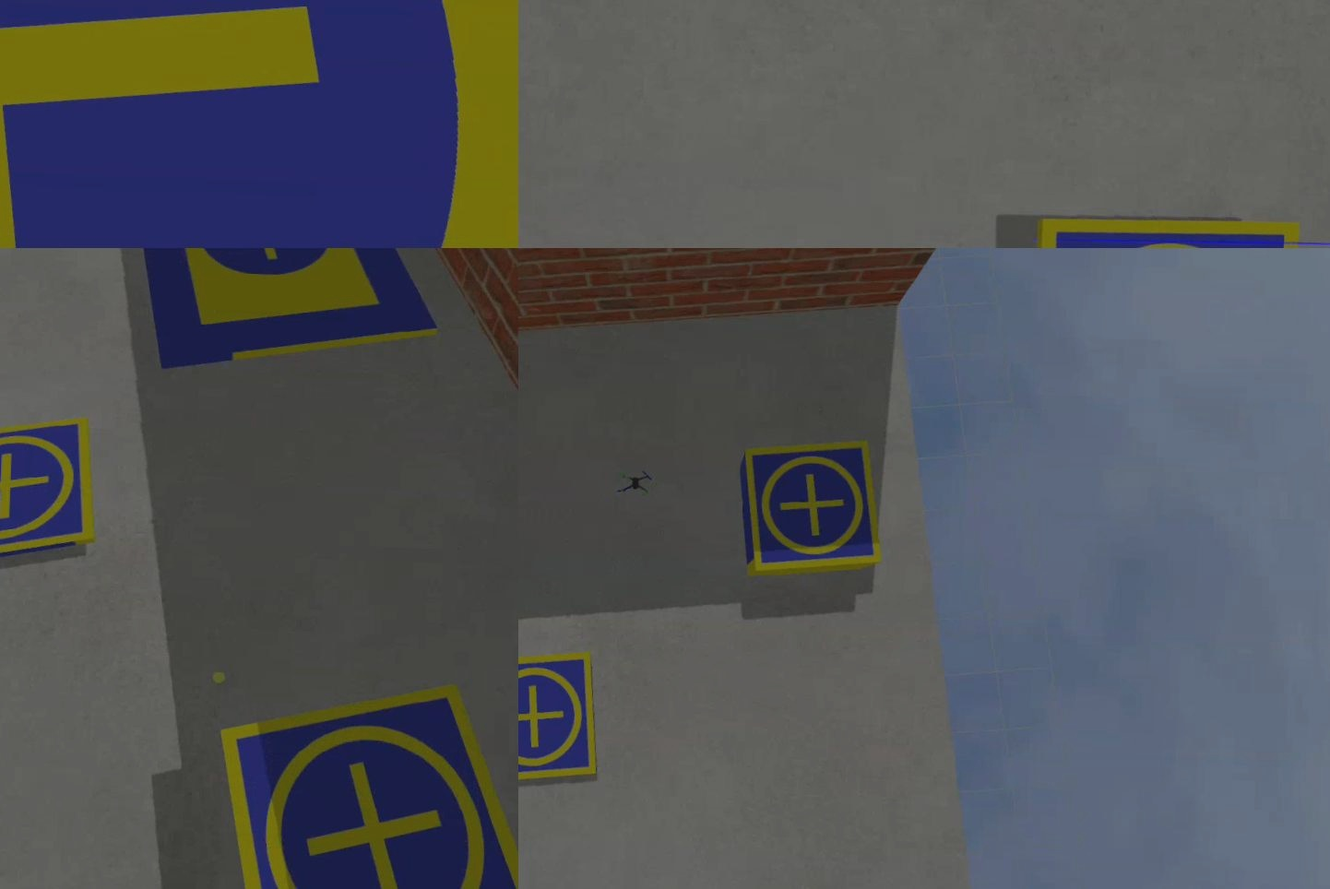large_base: (126, 249, 445, 373)
small_base: (1, 1, 518, 249), (215, 677, 518, 889), (739, 435, 884, 576), (1, 417, 105, 579), (518, 646, 602, 787)
